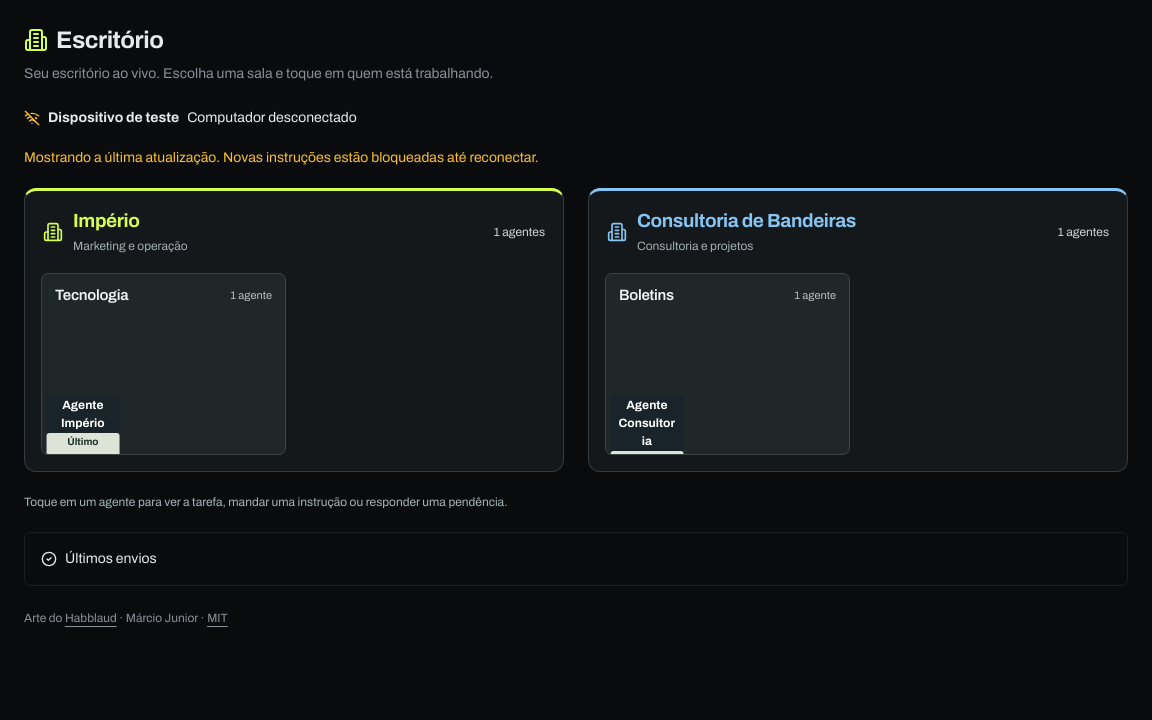
Test: Escritório visual e comandos › blocks the composer while the device is offline
Click the button with aria-label "Abrir Agente Império" at (83, 408), box left=46, top=350, right=119, bottom=467
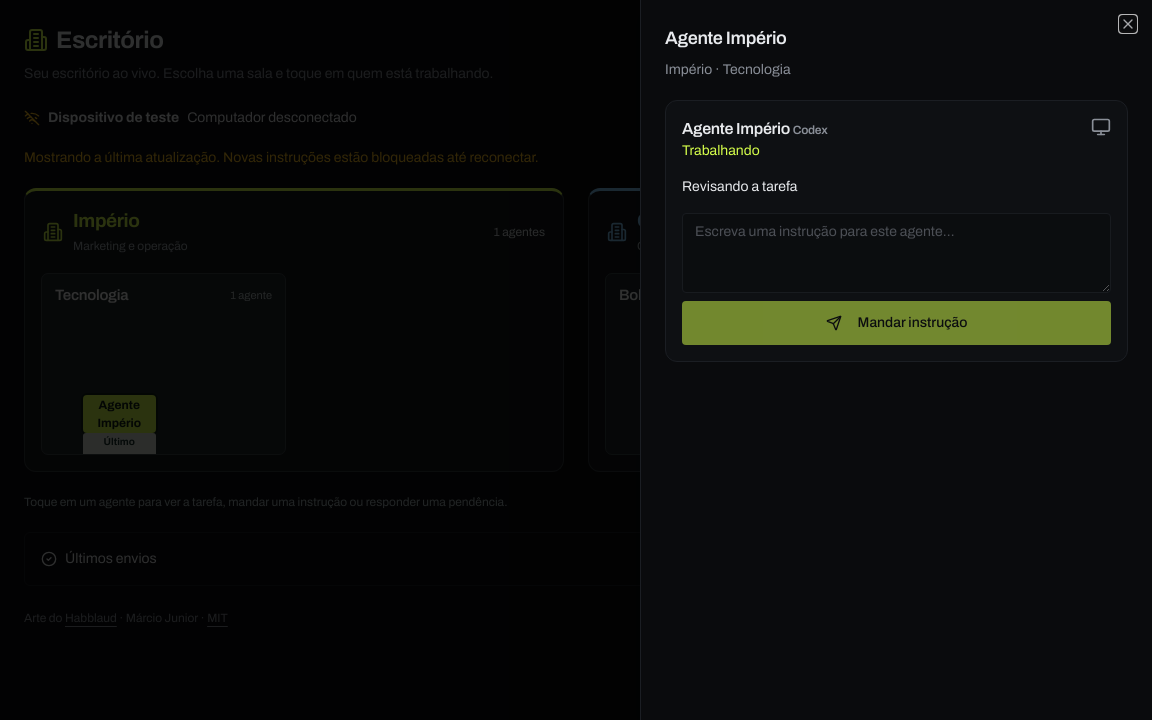
expect the text box named "Instrução para Agente Império" is disabled: met, box left=682, top=213, right=1111, bottom=293
